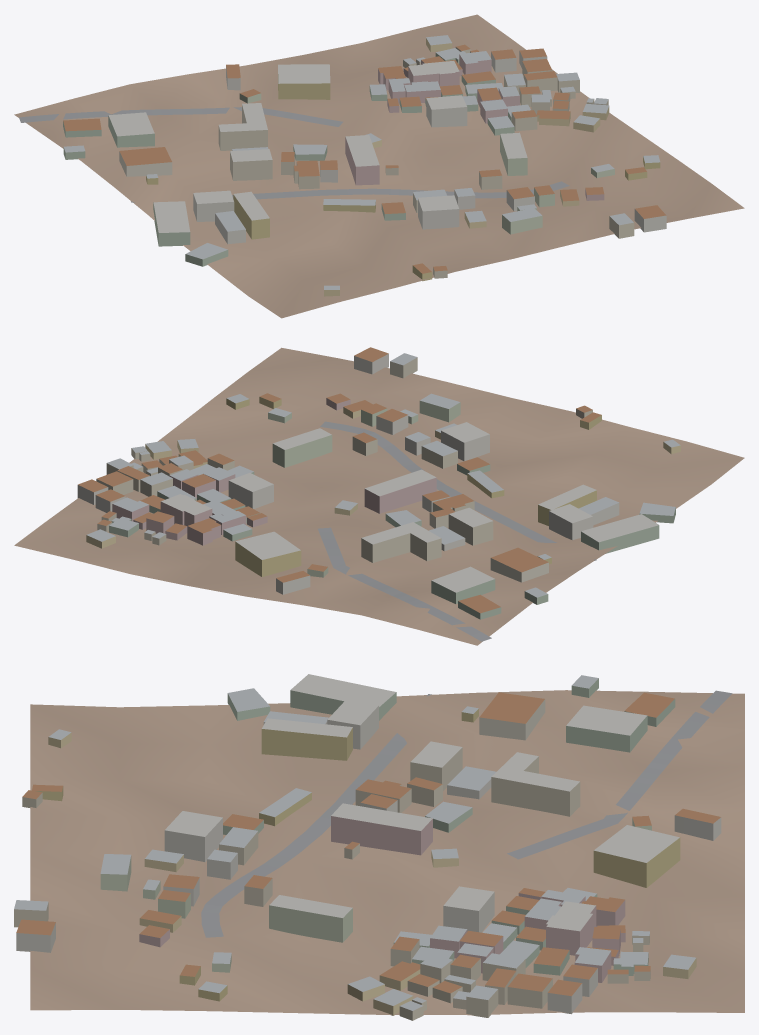
3 views of the same model, one above another, from view 1: azimuth 30°, elevation 25°; view 2: azimuth 150°, elevation 25°; view 3: azimuth 270°, elevation 25° (orthographic). The views are drawn at different scales.
Visible parts, largest first — view 1: Lo; view 2: Lo; view 3: Lo.
Boxes of the visible parts, box(x1,y1,x2,y2) form: Lo: box(14, 14, 744, 318); Lo: box(14, 347, 744, 645); Lo: box(14, 674, 744, 1020).
Bounding box in the file's own units: 270 × 16.28 × 262.
